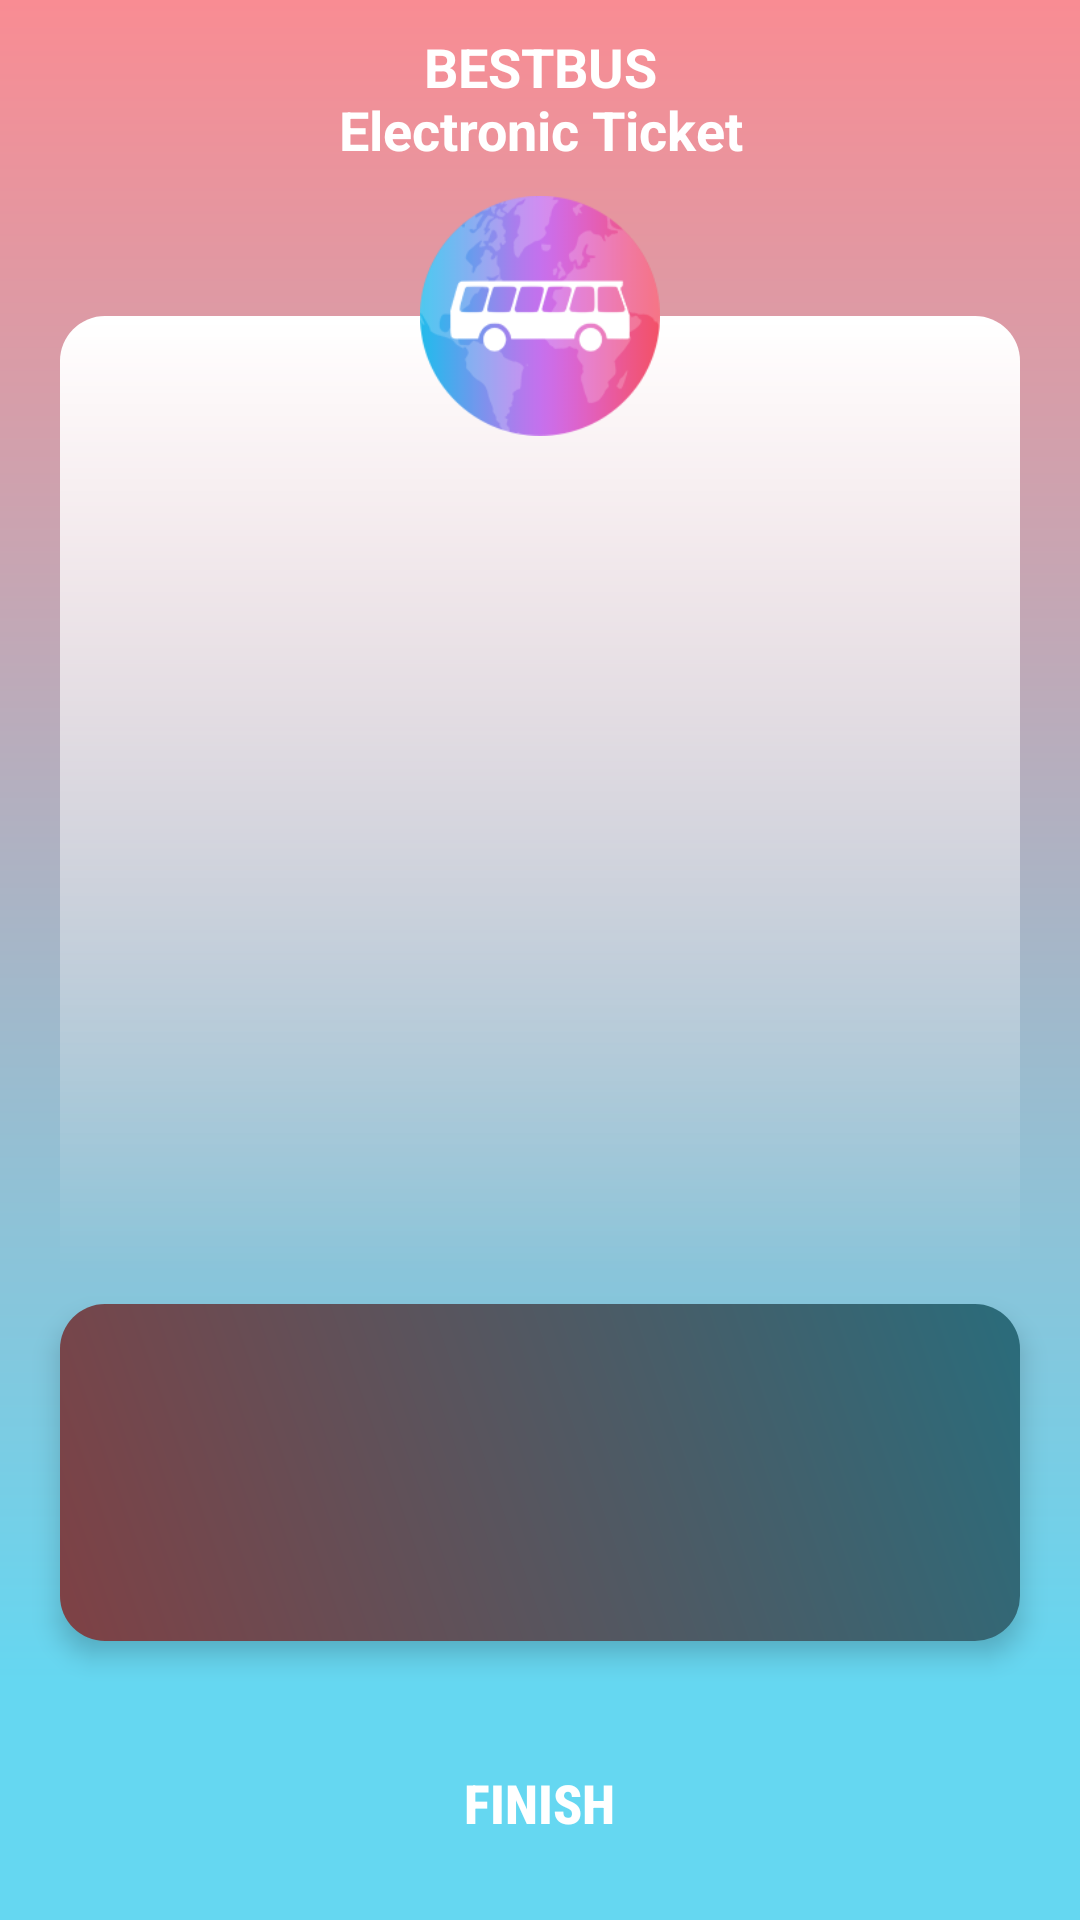

Screen size 1080px×1920px. Icon name, then its center in pixels as (x,y):
app: (540,316)
